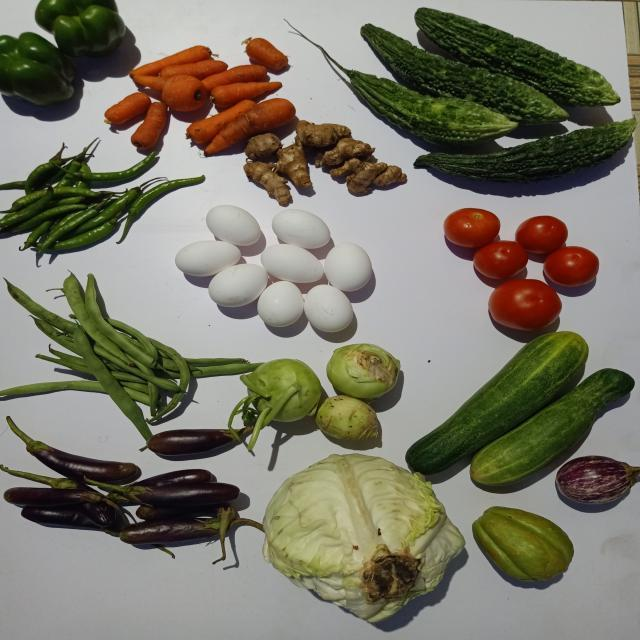Beans: (72, 326, 151, 440), (84, 274, 155, 368), (3, 278, 76, 335), (92, 345, 179, 391), (146, 339, 190, 423), (0, 381, 105, 396), (189, 363, 263, 378)
Bitter Gourd: (293, 27, 518, 145), (361, 23, 569, 124), (415, 7, 621, 106), (414, 118, 637, 182)
Brinjal: (5, 417, 138, 483), (118, 518, 218, 545), (128, 483, 239, 507), (3, 488, 116, 509), (145, 430, 234, 456)
Cabbage: (263, 455, 465, 623)
Capsicum: (0, 31, 74, 105), (34, 0, 125, 56)
Carrot: (204, 97, 295, 153), (128, 44, 211, 75), (130, 101, 166, 149), (103, 91, 150, 124), (245, 37, 288, 69)
Chayote: (473, 507, 575, 583)
Cucumber: (406, 331, 589, 475), (470, 369, 635, 486)
Egg: (208, 264, 268, 307), (260, 244, 324, 283), (174, 241, 240, 276), (324, 243, 372, 291), (304, 285, 353, 332), (271, 209, 330, 248), (205, 205, 260, 246), (257, 281, 303, 327)
Eggplant: (557, 456, 640, 505)
Ginger: (243, 161, 291, 205), (275, 138, 312, 187), (321, 137, 375, 165), (244, 132, 282, 158)
Green Chilly: (72, 326, 151, 440), (116, 175, 204, 244), (77, 151, 156, 181), (46, 218, 116, 250), (1, 189, 45, 213), (52, 186, 107, 198)
Tomato: (489, 279, 563, 331), (544, 246, 600, 287), (444, 208, 501, 247), (515, 215, 568, 254), (474, 241, 528, 279)
Turnip: (229, 359, 321, 451), (326, 344, 400, 401), (315, 396, 377, 441)
